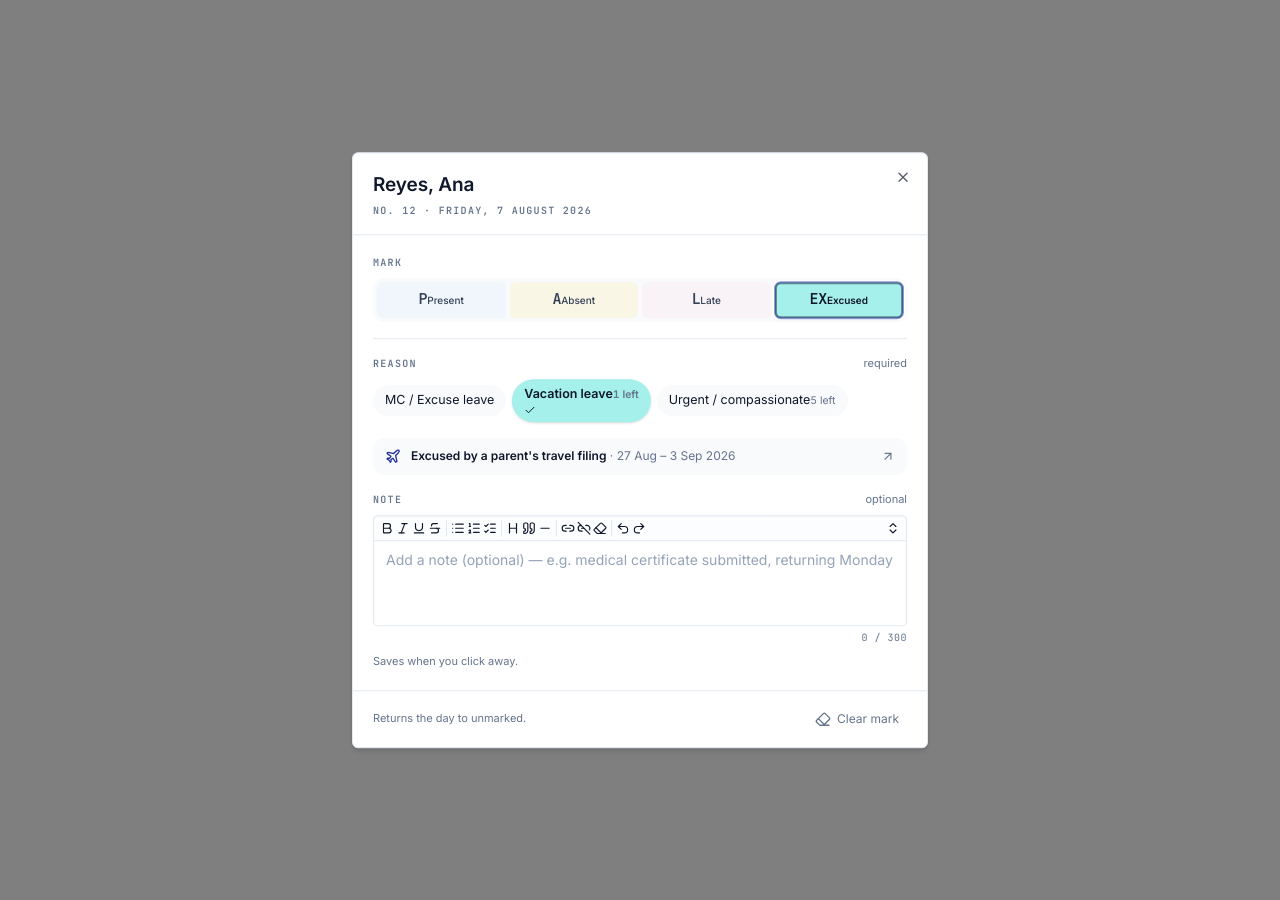
Test: a day a parent filed for › asks before overriding an approved holiday
This screenshot has width=1280, height=900.
Click the radio button labelled "Absent" at (574, 300), box [510,282,638,318]
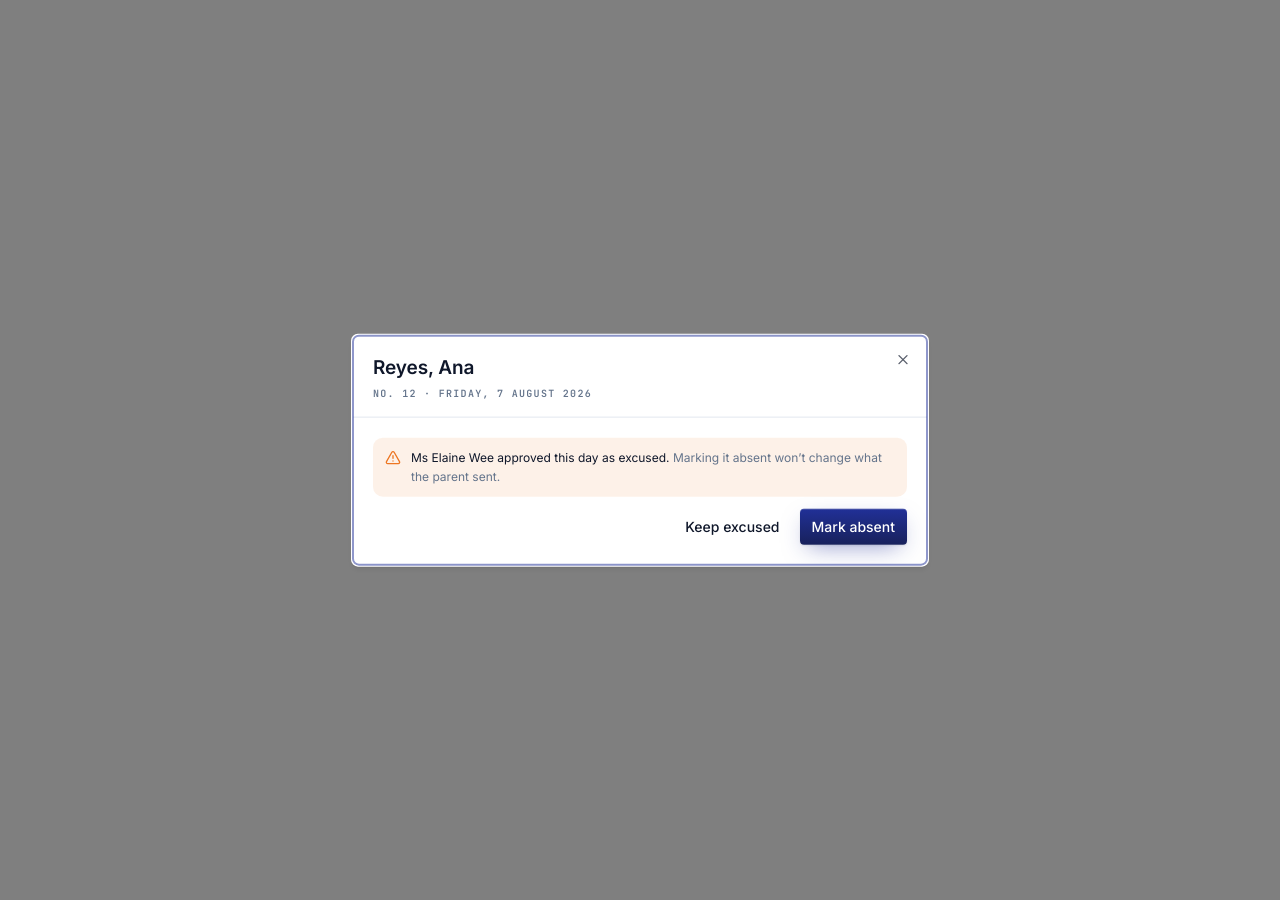
expect the text "Ms Elaine Wee approved this day" is shown: met, box [411,449,670,464]
